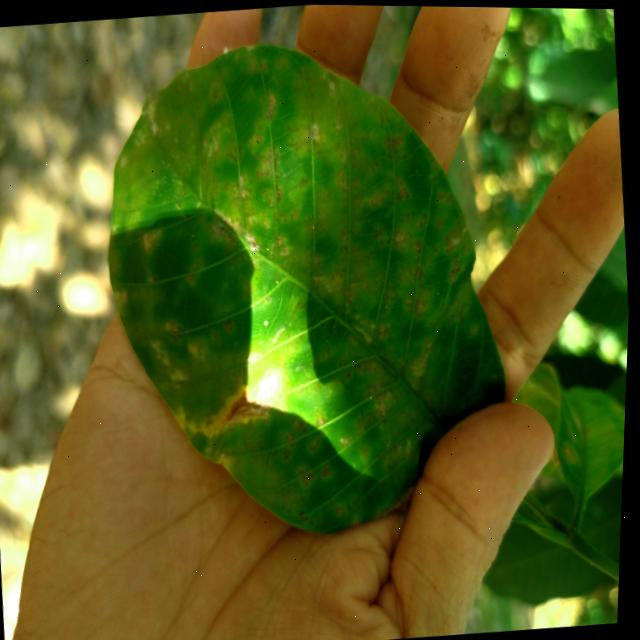Leaf-Blight: (221, 366, 288, 425)
